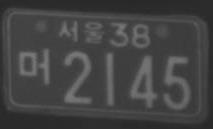1: (97, 50, 123, 107)
2: (62, 48, 94, 105)
3: (107, 20, 130, 49)
4: (127, 53, 159, 109)
5: (160, 54, 192, 112)
8: (130, 22, 152, 49)
머: (16, 46, 51, 86)
서울_O: (56, 18, 105, 45)
